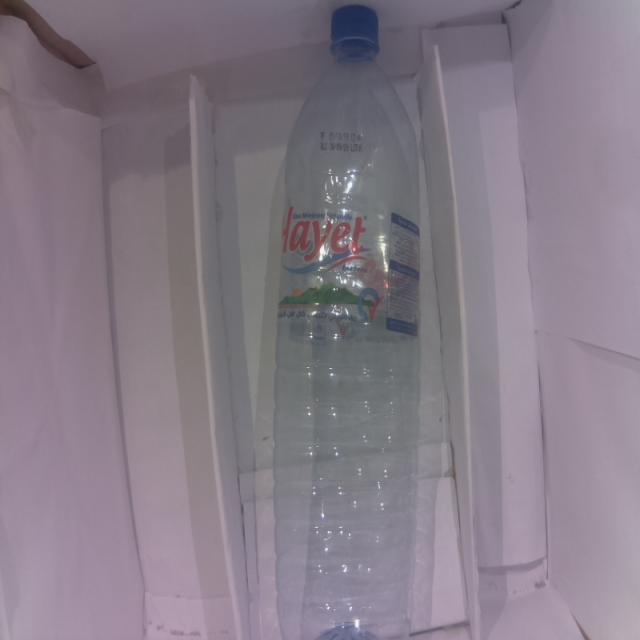good: (251, 4, 450, 640)
